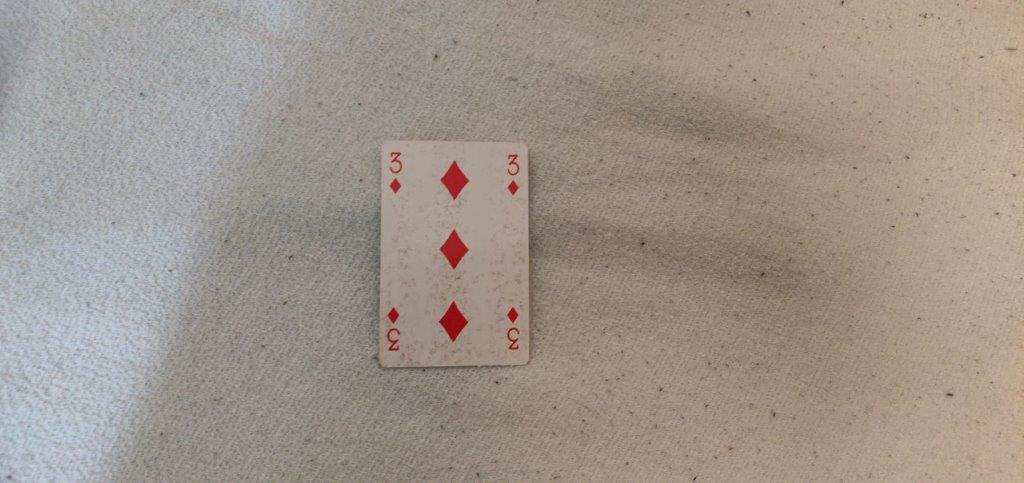3D: (383, 148, 408, 196), (502, 153, 526, 201)
